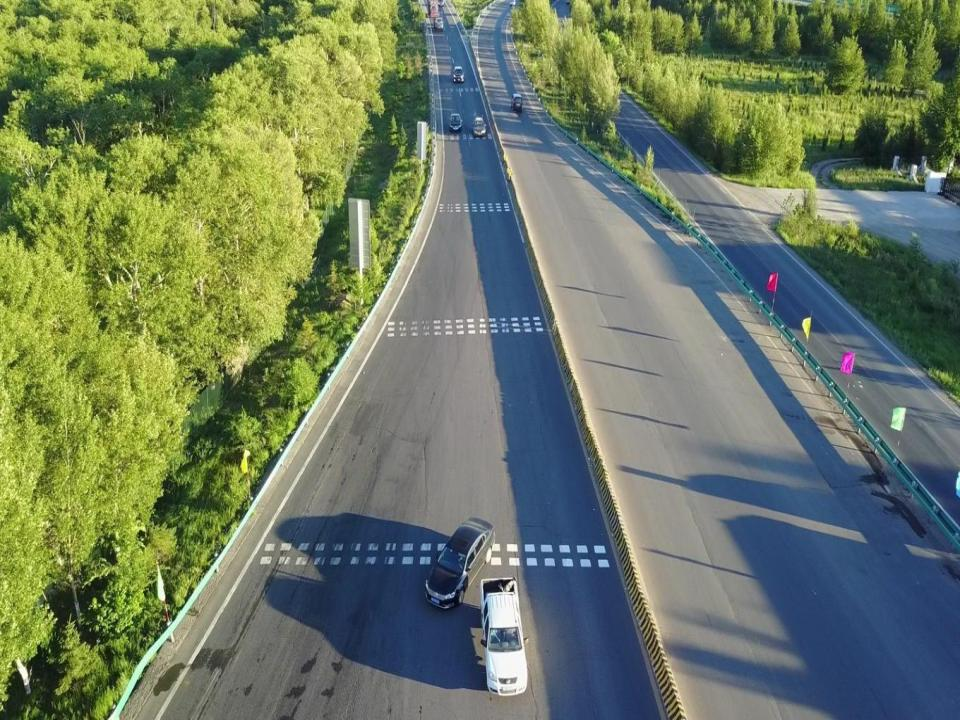car: (425, 517, 495, 609), (472, 118, 486, 137), (449, 114, 462, 131), (437, 0, 444, 6), (510, 0, 515, 5)
truck: (480, 577, 530, 695), (432, 9, 445, 31), (427, 0, 438, 17)
van: (510, 93, 523, 111), (453, 66, 465, 82)
